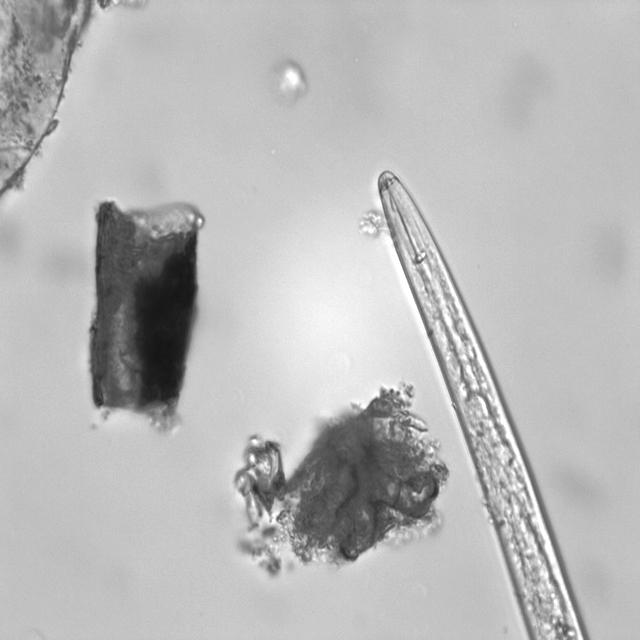Helicotylenchus: (366, 170, 599, 640)
